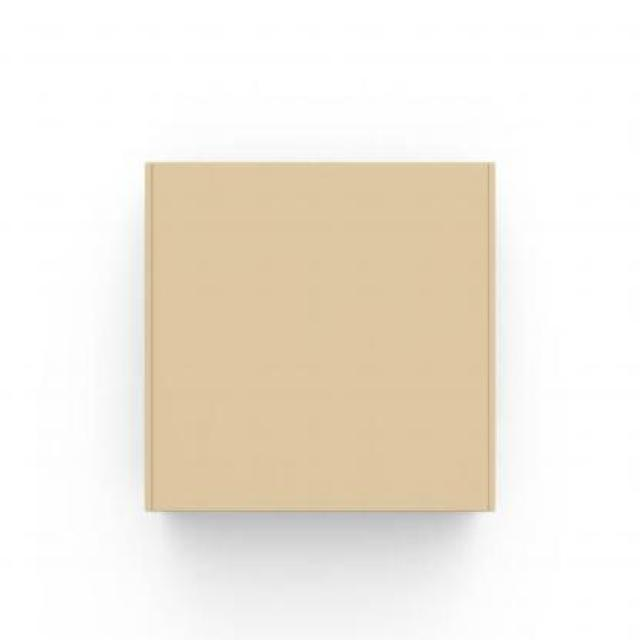box: (117, 130, 512, 563)
